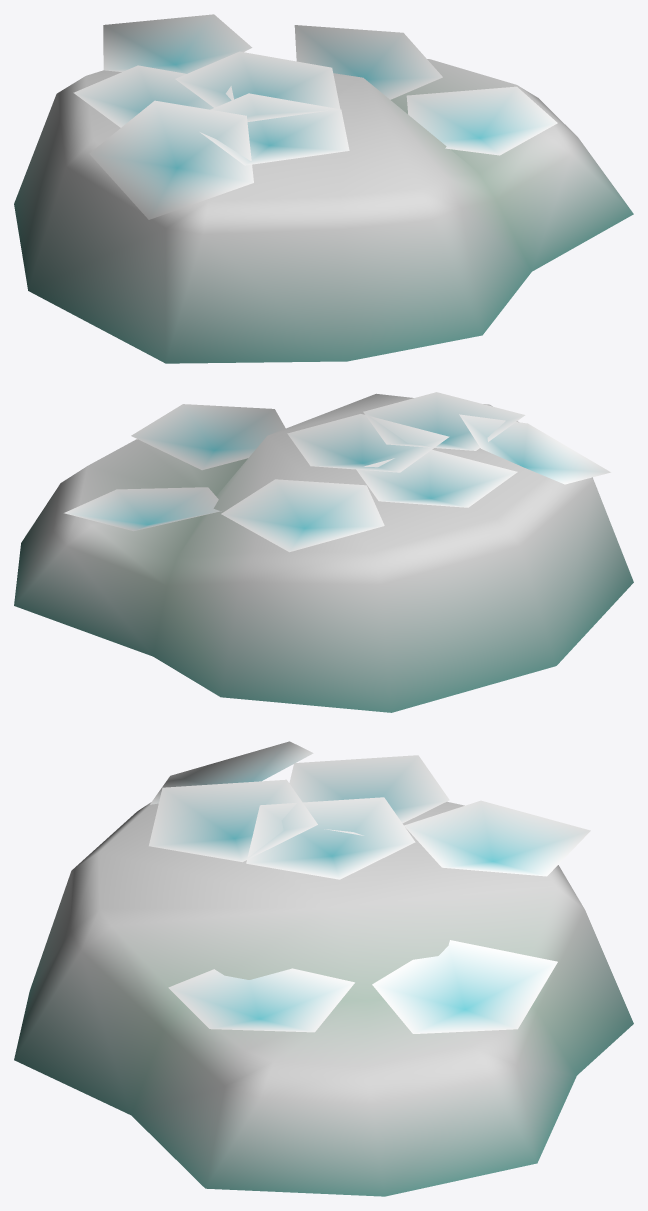
File: rock-small.glb
The picture shows the model from 3 angles, top to bottom: view 1: azimuth 30°, elevation 25°; view 2: azimuth 150°, elevation 25°; view 3: azimuth 270°, elevation 25°; orthographic projection. The views are drawn at different scales.
Visible parts, largest first — view 1: rock-small; view 2: rock-small; view 3: rock-small.
Part boxes in pixels (x1,y1,x2,y2): rock-small: (14, 14, 633, 363); rock-small: (14, 392, 633, 712); rock-small: (14, 741, 633, 1196).
Bounding box in the file's own units: 0.9426 × 0.3008 × 0.8338.
